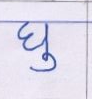u_matra: (30, 53, 60, 73)
